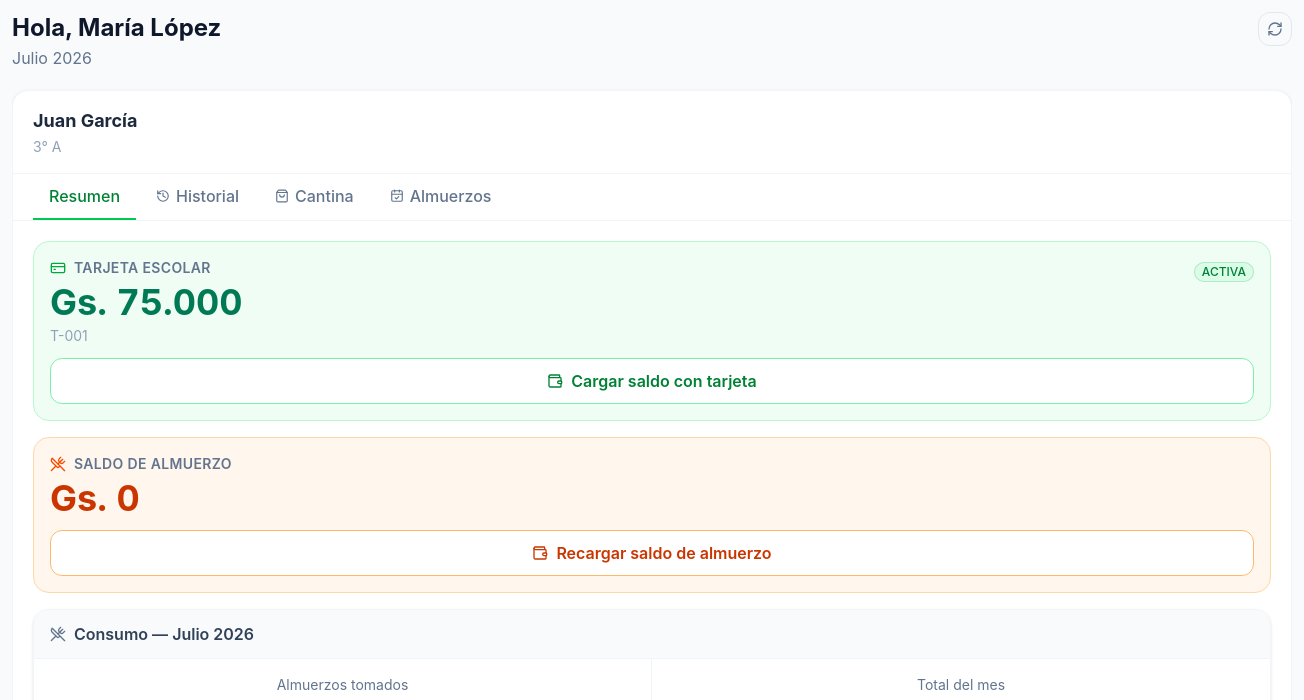
Test case: PortalDashboard — tabs › tab Almuerzos → muestra la fecha del consumo sin corrimiento de un día (bug de UTC)
The width and height of the screenshot is (1304, 700).
Expected: the text "Juan García" is shown, left=33, top=110, right=137, bottom=131
Click the tab "Almuerzos" at [441, 197], box left=374, top=174, right=508, bottom=220
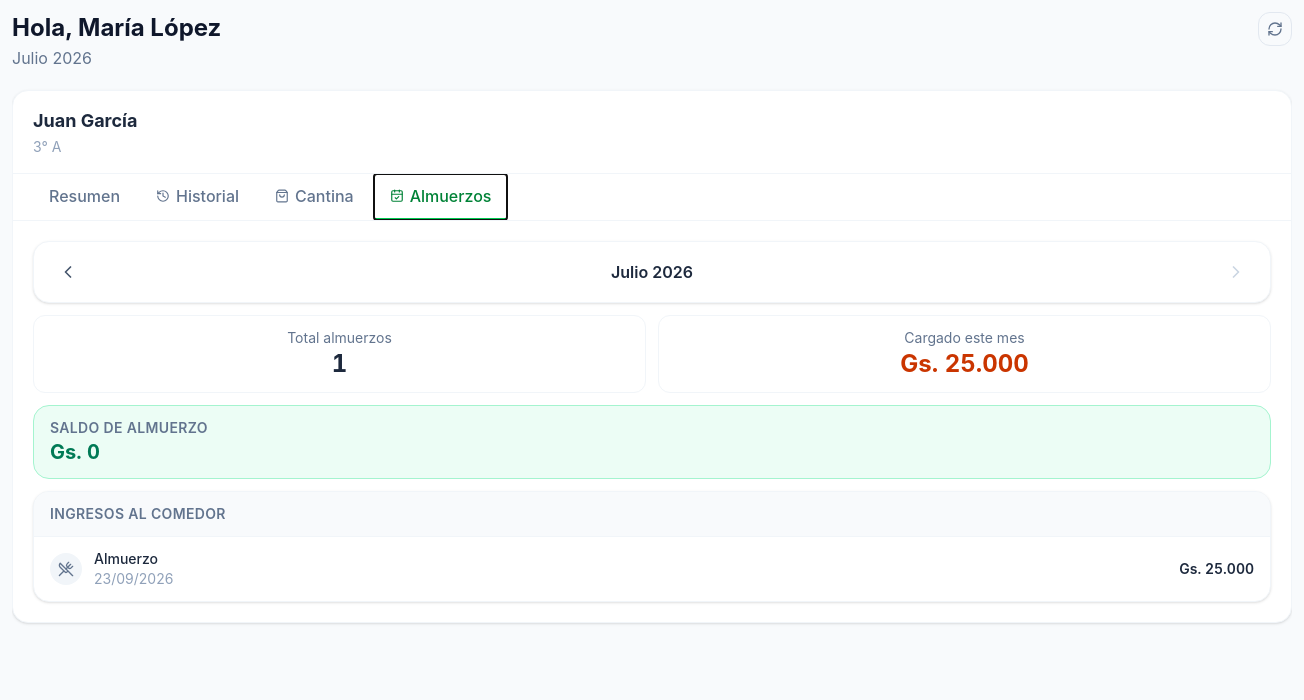
Now the text "23/09/2026" is shown, box left=94, top=569, right=173, bottom=589
